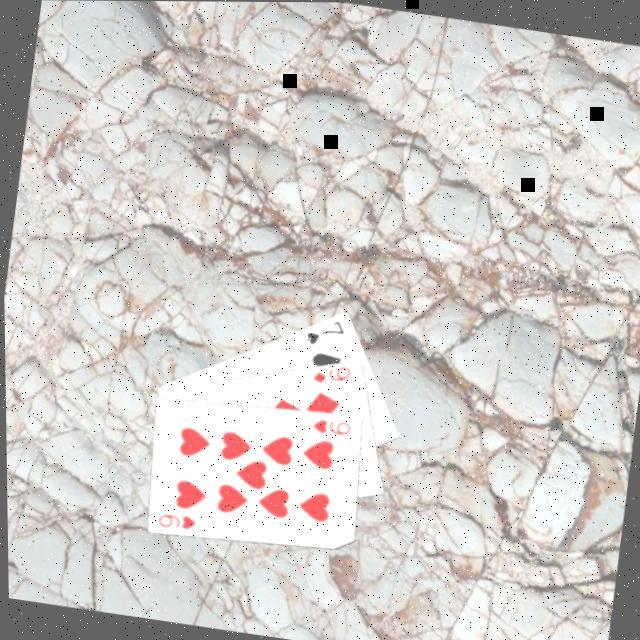7S: (303, 314, 349, 354)
9D: (309, 360, 355, 392)
9H: (154, 510, 200, 537), (310, 415, 356, 441)
